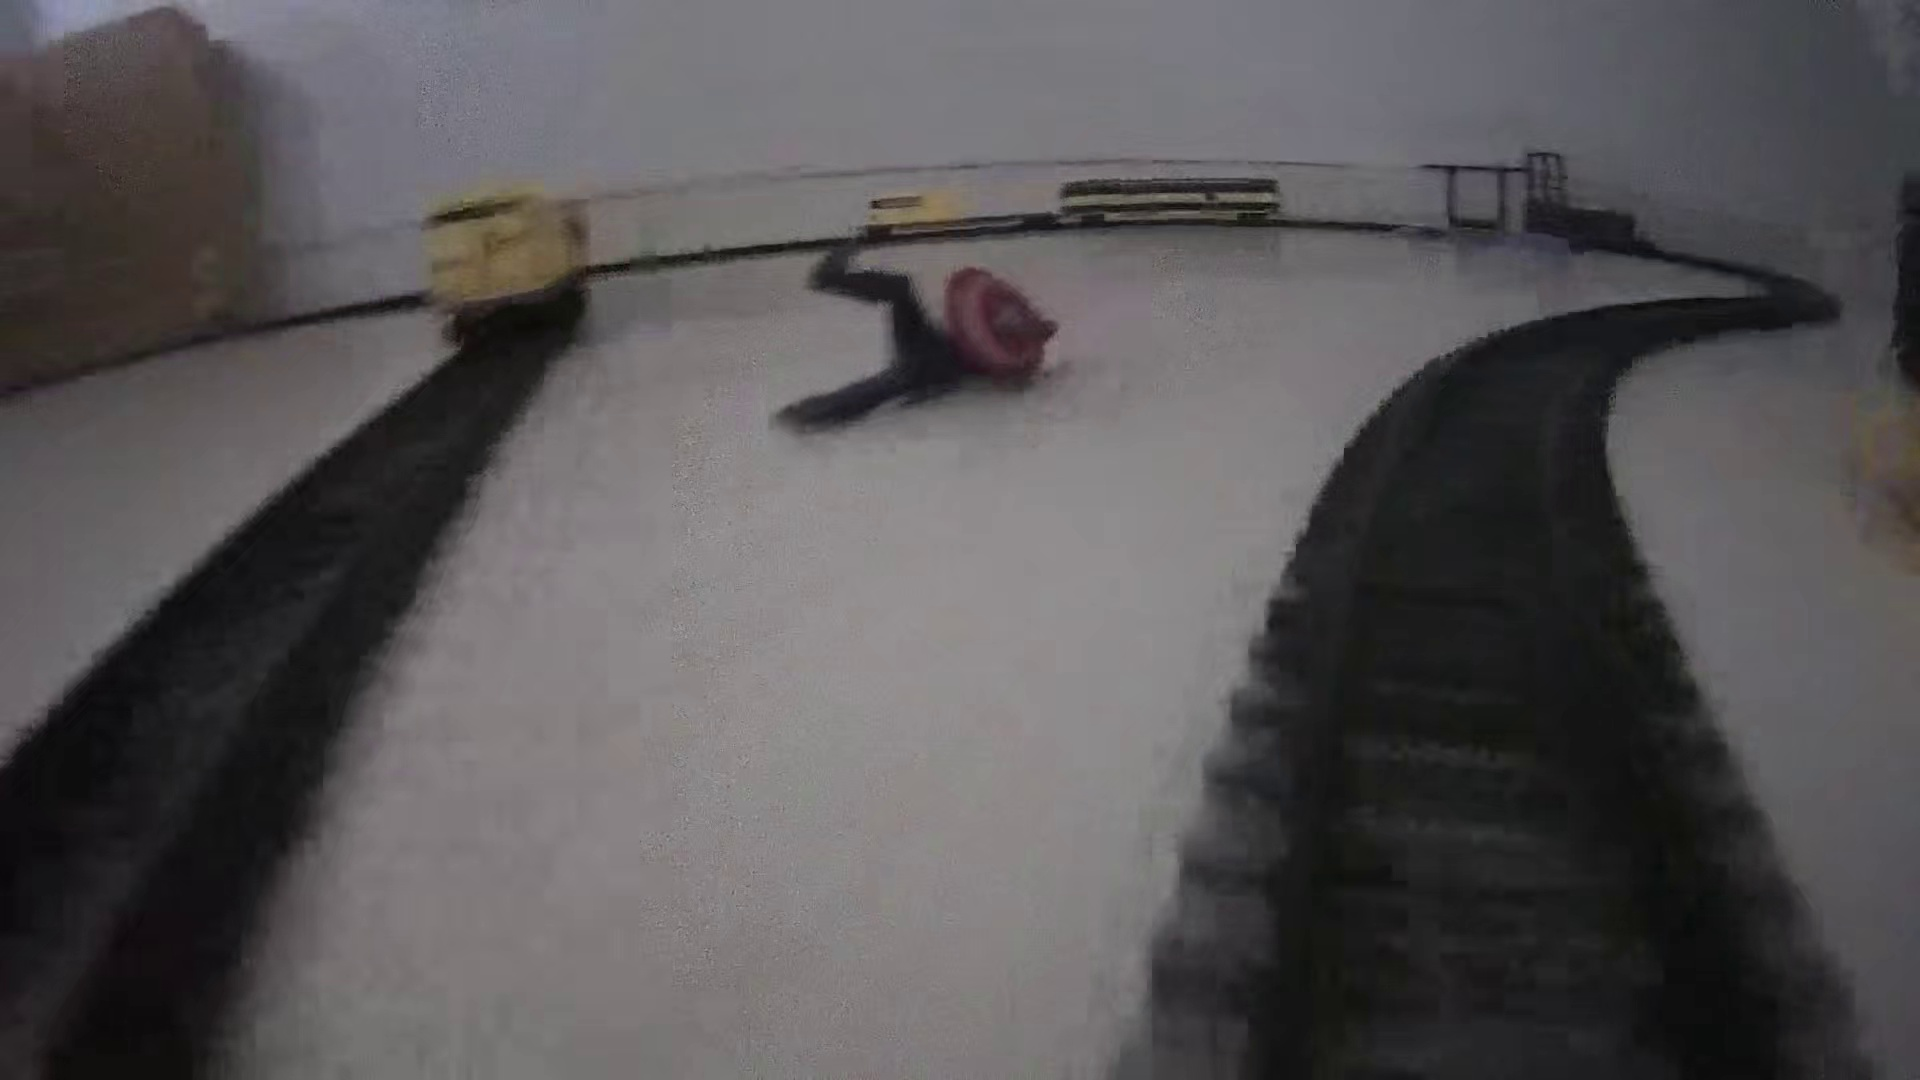people: (764, 216, 1069, 435)
